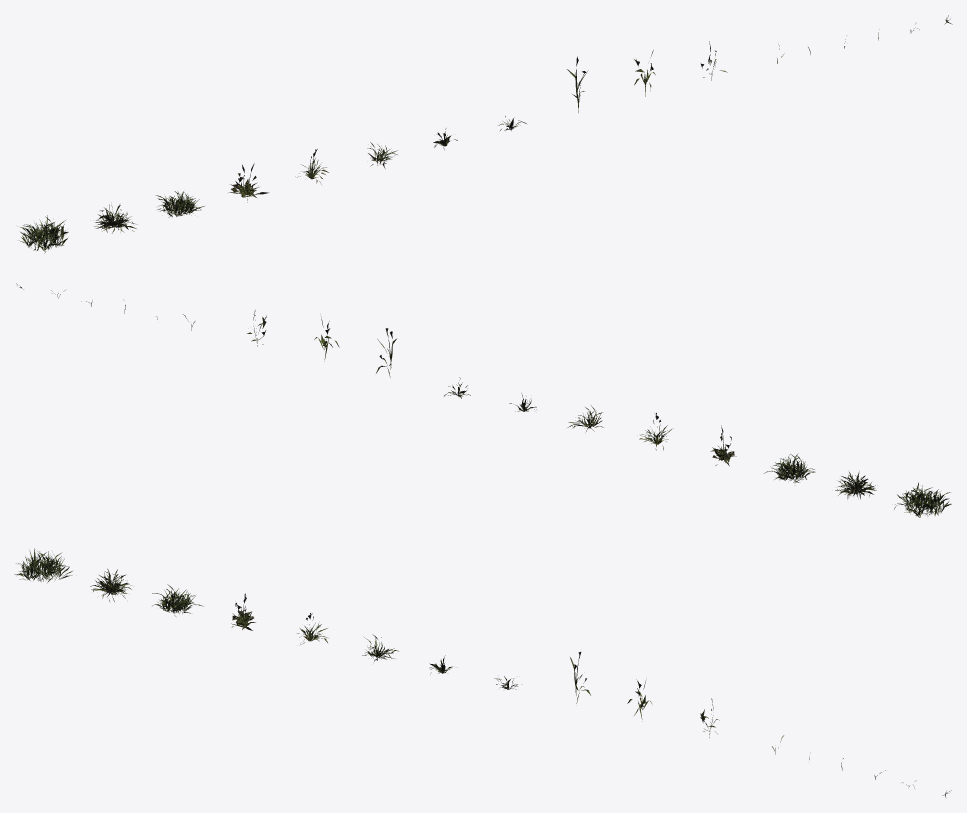
The model's file is grass_medium_01.glb.
3 renders of one model, top to bottom at view 1: azimuth 30°, elevation 25°; view 2: azimuth 150°, elevation 25°; view 3: azimuth 330°, elevation 25°, orthographic.
Visible parts, largest first — view 1: grass_medium_01_large_a_LOD0, grass_medium_01_large_c_LOD0, grass_medium_01_large_b_LOD0; view 2: grass_medium_01_large_a_LOD0, grass_medium_01_large_c_LOD0, grass_medium_01_large_b_LOD0; view 3: grass_medium_01_large_a_LOD0, grass_medium_01_large_c_LOD0, grass_medium_01_large_b_LOD0.
Part boxes in pixels (box(x1,y1,x2,y2)): grass_medium_01_large_a_LOD0: box(19, 215, 68, 253); grass_medium_01_large_c_LOD0: box(155, 191, 204, 217); grass_medium_01_large_b_LOD0: box(94, 204, 136, 233); grass_medium_01_large_a_LOD0: box(894, 482, 951, 517); grass_medium_01_large_c_LOD0: box(764, 453, 815, 482); grass_medium_01_large_b_LOD0: box(835, 471, 876, 499); grass_medium_01_large_a_LOD0: box(14, 548, 72, 582); grass_medium_01_large_c_LOD0: box(152, 584, 203, 616); grass_medium_01_large_b_LOD0: box(90, 568, 131, 602).
Size of the model in its own units: 5.6 by 0.3426 by 0.3264.
1 material, 1 textured.
